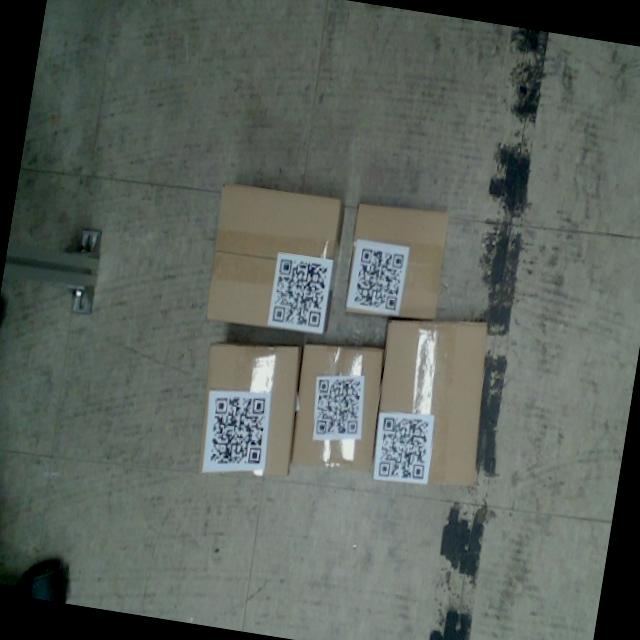box: (361, 302, 502, 498), (198, 179, 348, 338), (187, 328, 312, 490), (338, 194, 456, 328), (284, 338, 390, 482)
